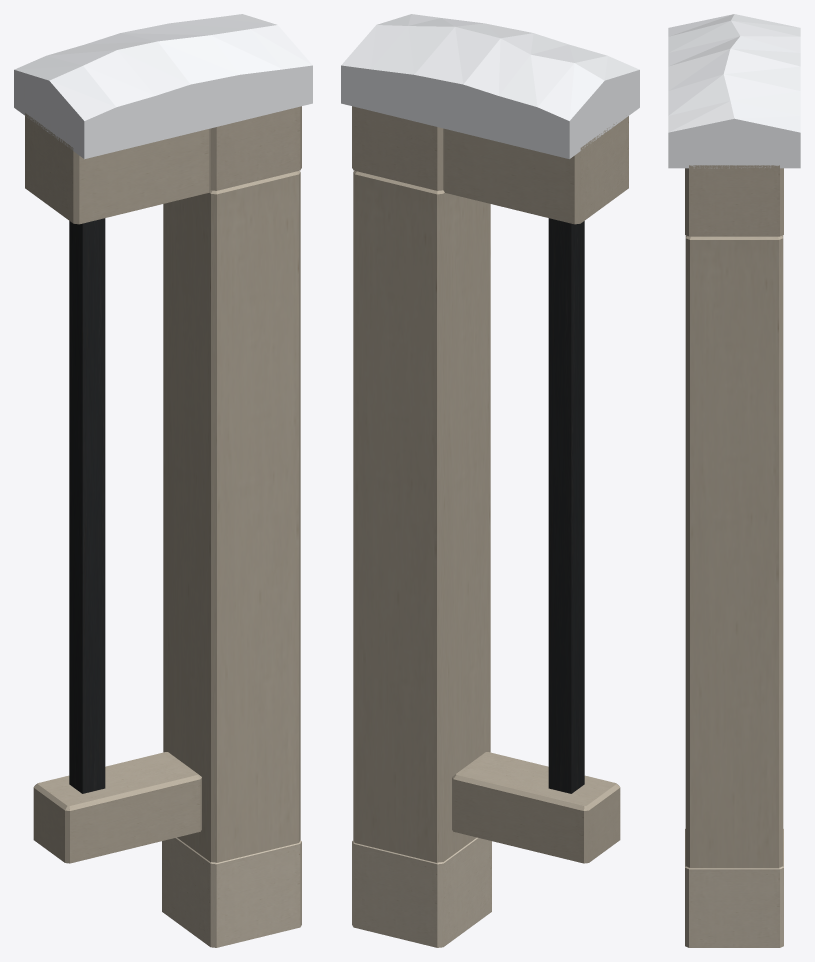
Rendered from railing_snow_end.glb.
3 views of the same model, side by side, from view 1: azimuth 30°, elevation 25°; view 2: azimuth 150°, elevation 25°; view 3: azimuth 270°, elevation 25° (orthographic). The views are drawn at different scales.
Parts seen in each view (by area): view 1: canonical_base, snow_accumulation; view 2: canonical_base, snow_accumulation; view 3: canonical_base, snow_accumulation.
Part boxes in pixels (box(x1,y1,x2,y2)): canonical_base: box(25, 106, 301, 947); snow_accumulation: box(14, 14, 312, 159); canonical_base: box(352, 106, 628, 947); snow_accumulation: box(341, 14, 639, 159); canonical_base: box(685, 165, 783, 947); snow_accumulation: box(668, 14, 800, 168).
Bounding box in the file's own units: 0.3 × 1.13 × 0.16.
3 materials, 2 textured.
